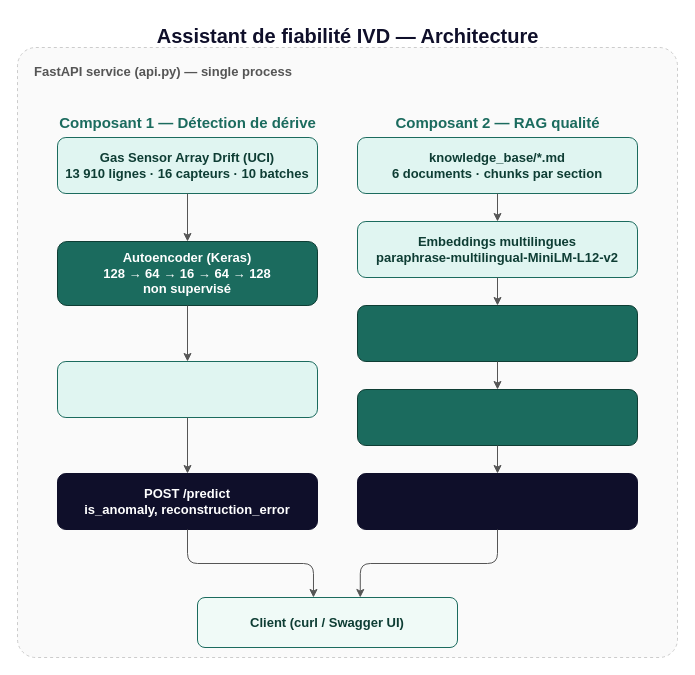
Image size: 695x675. Some labels were removed from this diagram. The centre of each missing label's shape, as x and y in pixels:
"Erreur de reconstruction seuil = percentile 95" belongs at point (187, 389).
"Index FAISS IndexFlatIP · similarité cosinus" belongs at point (497, 333).
"LLM local — Qwen2.5-1.5B Hugging Face Transformers · MPS" belongs at point (497, 417).
"POST /ask answer, sources[]" belongs at point (497, 501).
